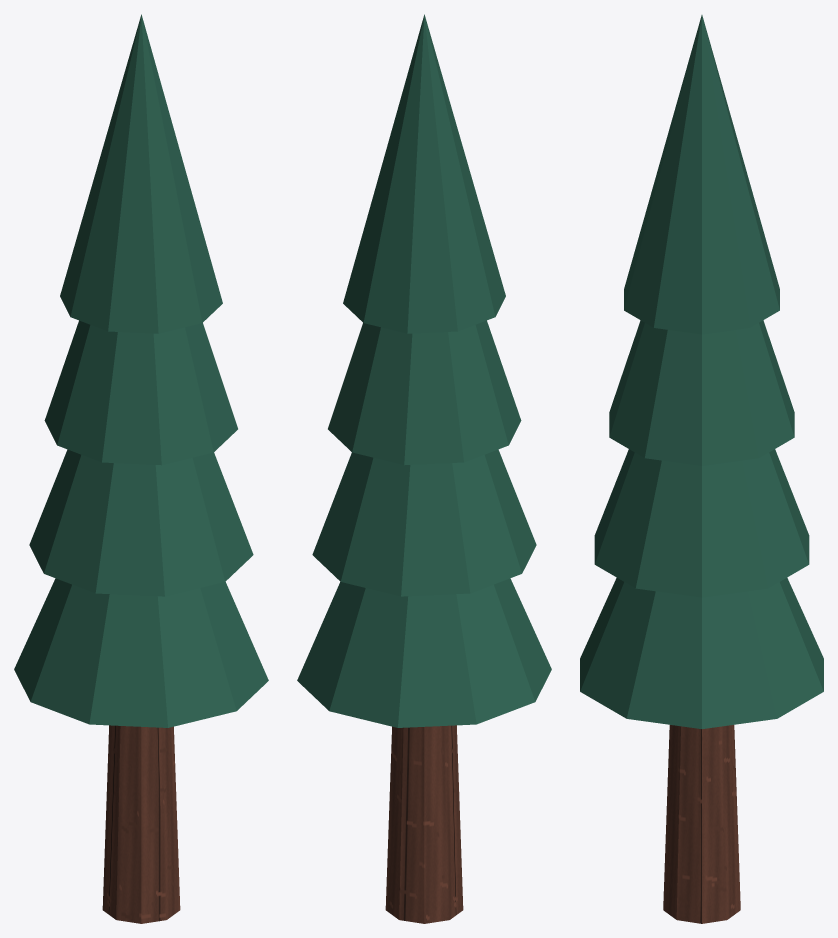
Rendered from pine.glb.
3 views of the same model, side by side, from view 1: azimuth 30°, elevation 25°; view 2: azimuth 150°, elevation 25°; view 3: azimuth 270°, elevation 25° (orthographic).
Visible parts, largest first — view 1: 0_pine, 0_woodTex; view 2: 0_pine, 0_woodTex; view 3: 0_pine, 0_woodTex.
Part boxes in pixels (x1=…): 0_pine: x1=14, y1=14, x2=268, y2=727; 0_woodTex: x1=102, y1=725, x2=180, y2=923; 0_pine: x1=297, y1=14, x2=551, y2=727; 0_woodTex: x1=385, y1=725, x2=463, y2=923; 0_pine: x1=580, y1=15, x2=823, y2=728; 0_woodTex: x1=663, y1=725, x2=740, y2=923.
Bounding box in the file's own units: 2.34 × 9 × 2.23.
Materials: 2 (1 with a texture image).
